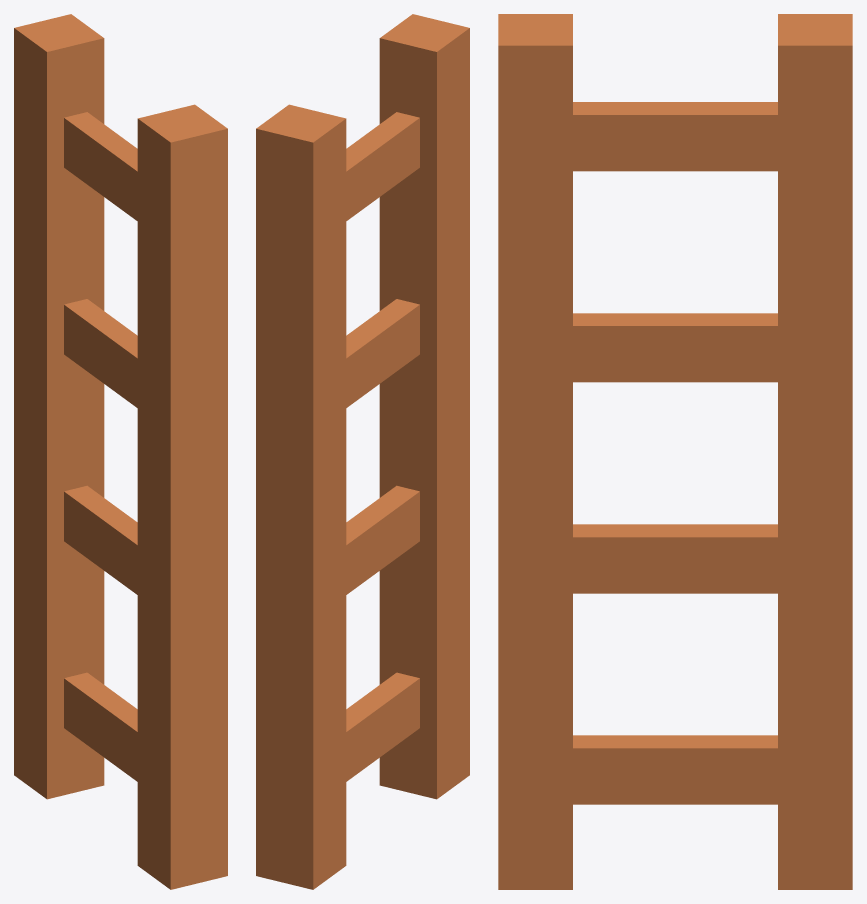
The model's file is ladder.fbx.
3 renders of one model, left to right at view 1: azimuth 30°, elevation 25°; view 2: azimuth 150°, elevation 25°; view 3: azimuth 270°, elevation 25°, orthographic. The views are drawn at different scales.
Visible parts, largest first — view 1: ladder; view 2: ladder; view 3: ladder.
Part boxes in pixels (x1,y1,x2,y2): ladder: [14, 14, 227, 889]; ladder: [256, 14, 469, 889]; ladder: [498, 14, 852, 889].
Size of the model in its own units: 0.8 by 10 by 3.8.
